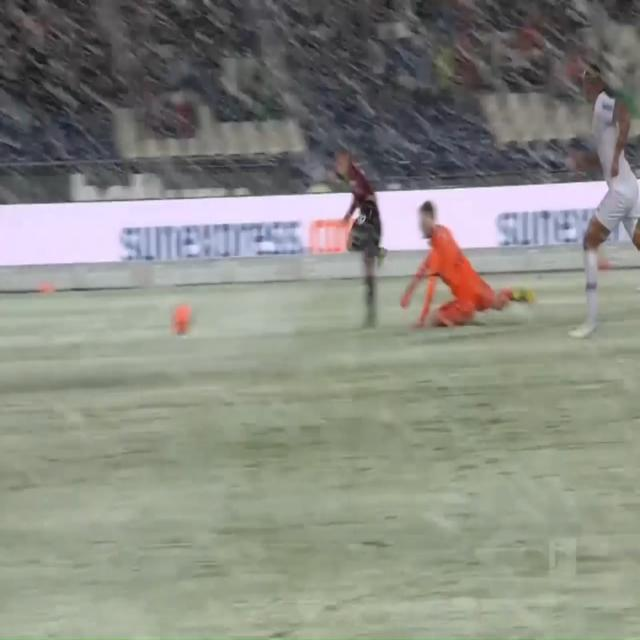ball: (166, 295, 198, 339)
goalkeeper: (397, 192, 541, 339)
player: (558, 46, 639, 351), (315, 141, 392, 355)
